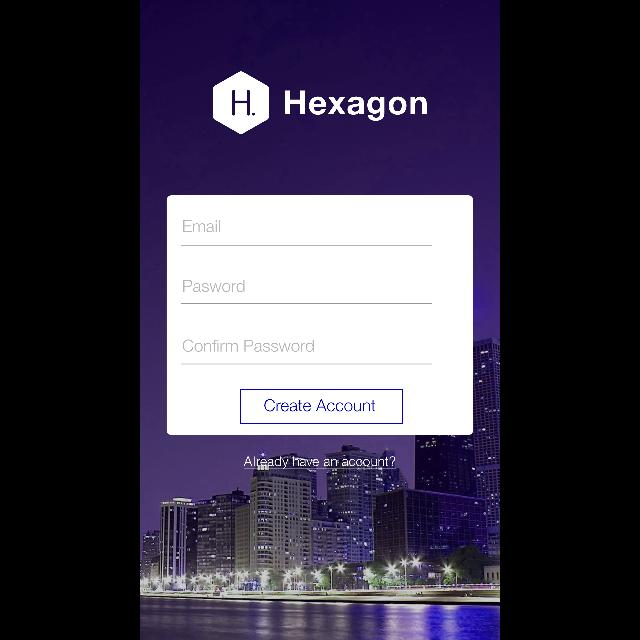backgroundimage: (140, 1, 500, 640)
image: (213, 72, 269, 134)
input: (182, 220, 432, 246), (182, 339, 432, 365), (182, 280, 432, 304)
text: (285, 90, 427, 122), (244, 456, 396, 468), (182, 340, 314, 352), (183, 280, 244, 292), (183, 220, 220, 232)
textbutton: (240, 388, 404, 424)
